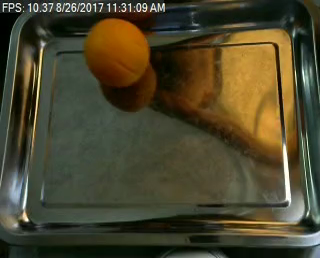Orange: (83, 17, 149, 87)
